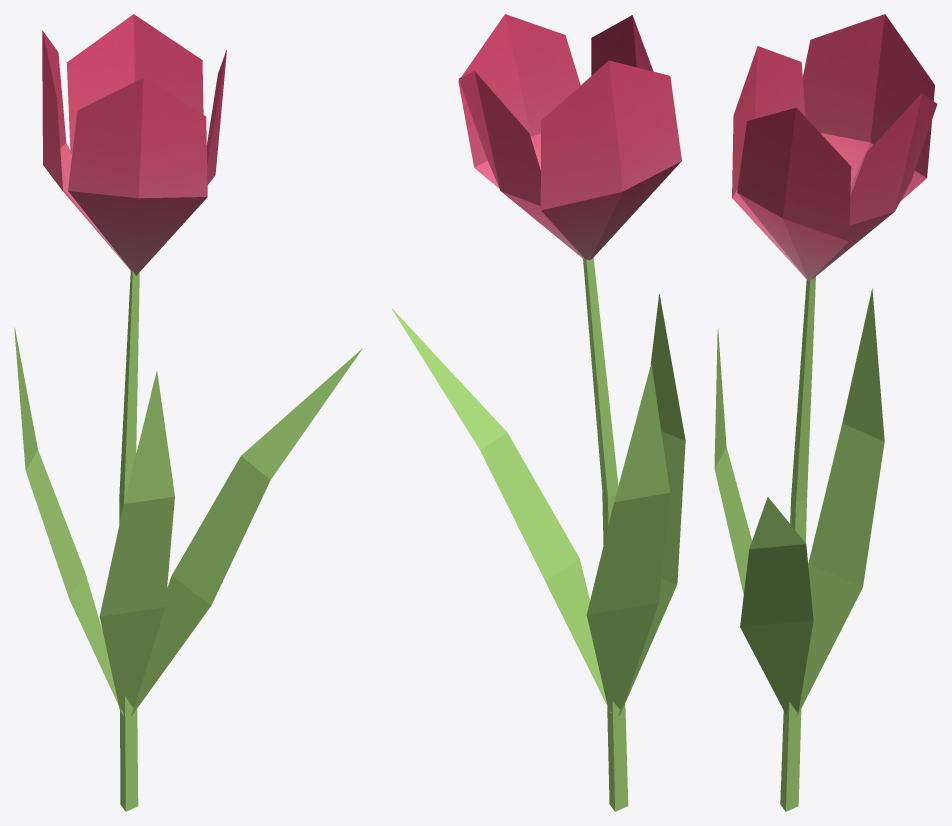
File: Flower_f_TwoS_09.fbx
3 renders of one model, left to right at view 1: azimuth 30°, elevation 25°; view 2: azimuth 150°, elevation 25°; view 3: azimuth 270°, elevation 25°, orthographic. The views are drawn at different scales.
Parts seen in each view (by area): view 1: Flower_f_TwoS_09; view 2: Flower_f_TwoS_09; view 3: Flower_f_TwoS_09.
Boxes of the visible parts, bbox=[...] form: Flower_f_TwoS_09: bbox=[14, 14, 361, 811]; Flower_f_TwoS_09: bbox=[391, 14, 685, 811]; Flower_f_TwoS_09: bbox=[714, 14, 937, 811].
Size of the model in its own units: 0.2241 by 0.5354 by 0.1398.
